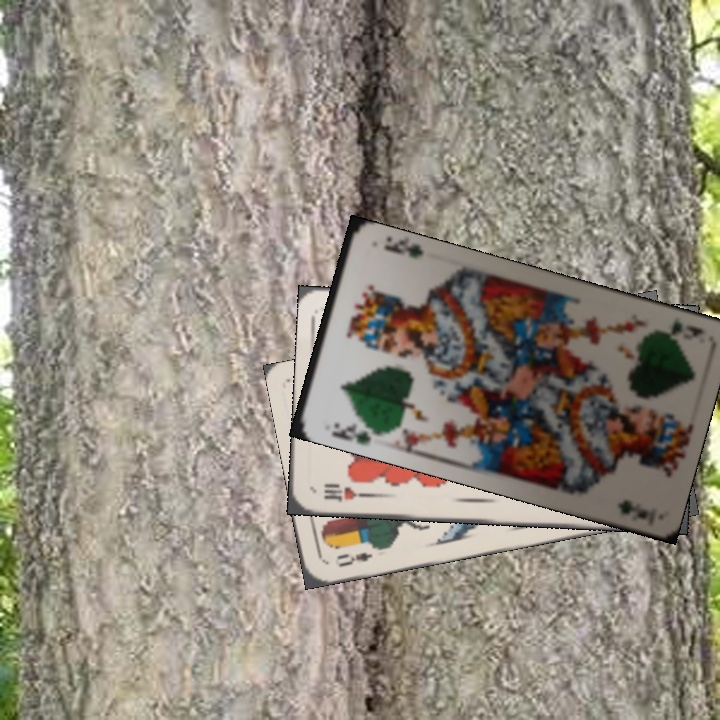EO: (333, 541, 383, 570)
GK: (646, 314, 707, 343), (327, 418, 378, 447)
H10: (319, 480, 372, 504)
